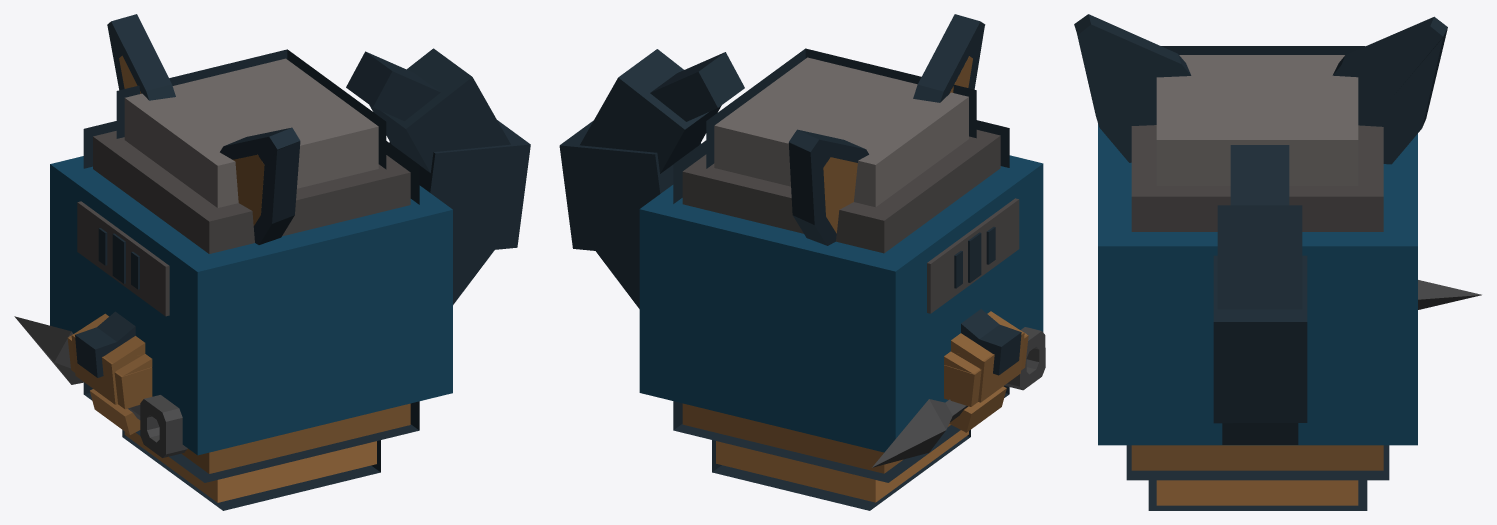
File: egg_ninja_dog.obj
3 renders of one model, left to right at view 1: azimuth 30°, elevation 25°; view 2: azimuth 150°, elevation 25°; view 3: azimuth 270°, elevation 25°, orthographic. The views are drawn at different scales.
Visible parts, largest first — view 1: E3, E1U, E2U, E2D, E1D; view 2: E3, E1U, E2U, E2D, E1D; view 3: E3, E1U, E2U, E2D, E1D.
Part boxes in pixels (<box>): E3: <box>14,48,530,457</box>; E1U: <box>107,14,386,244</box>; E2U: <box>83,121,419,253</box>; E2D: <box>83,382,419,482</box>; E1D: <box>122,430,380,510</box>; E3: <box>559,49,1045,467</box>; E1U: <box>706,14,985,245</box>; E2U: <box>673,120,1009,253</box>; E2D: <box>673,385,1009,482</box>; E1D: <box>712,430,970,510</box>; E3: <box>1098,124,1481,445</box>; E1U: <box>1074,14,1447,185</box>; E2U: <box>1131,125,1383,231</box>; E2D: <box>1126,445,1389,480</box>; E1D: <box>1148,480,1367,510</box>.
Size of the model in its own units: 7.82 by 6.87 by 5.98.
